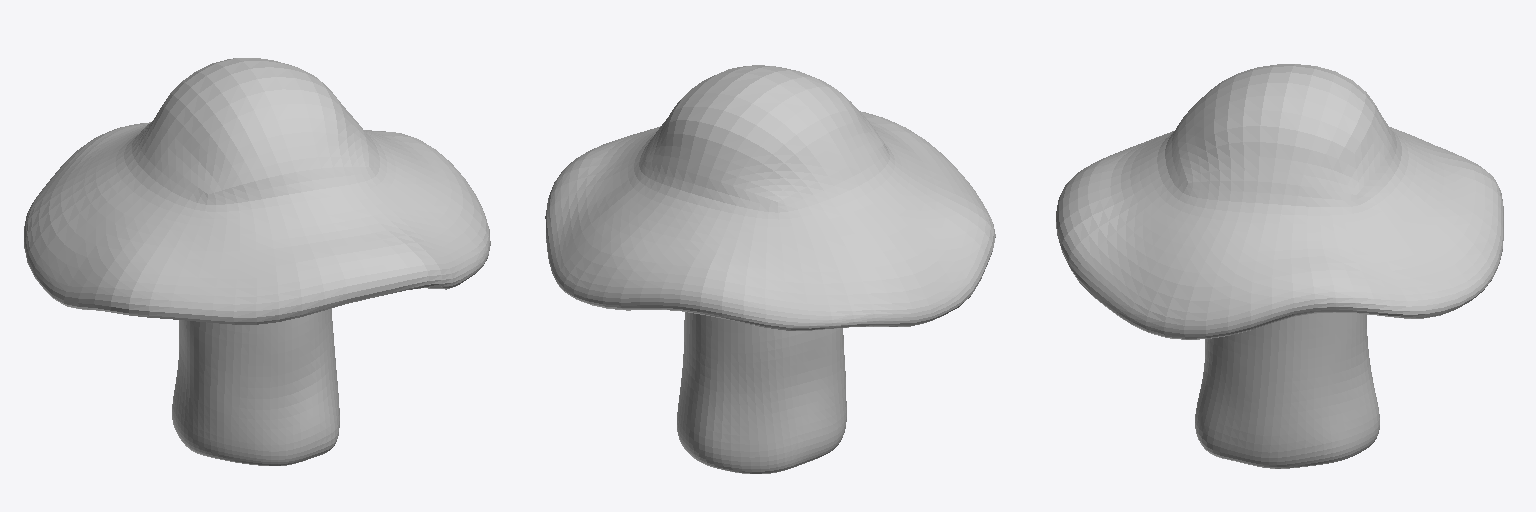
File: Mushroom_smartUVs_01.obj
3 views of the same model, side by side, from view 1: azimuth 30°, elevation 25°; view 2: azimuth 150°, elevation 25°; view 3: azimuth 270°, elevation 25° (orthographic).
Visible parts, largest first — view 1: mushroom; view 2: mushroom; view 3: mushroom.
Part boxes in pixels (bbox=[...]): mushroom: bbox=[24, 58, 490, 465]; mushroom: bbox=[545, 65, 995, 473]; mushroom: bbox=[1056, 64, 1503, 468].
Size of the model in its own units: 1.19 by 1.05 by 1.17.